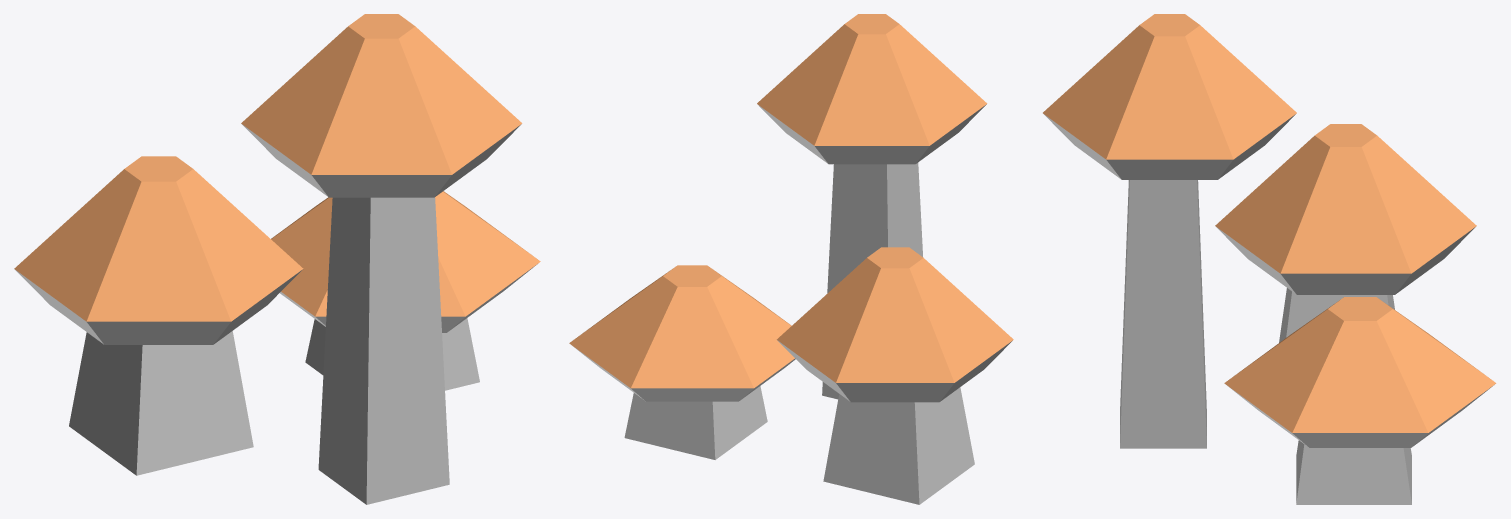
File: mushroom_tanGroup.dae
3 renders of one model, left to right at view 1: azimuth 30°, elevation 25°; view 2: azimuth 150°, elevation 25°; view 3: azimuth 270°, elevation 25°, orthographic. The views are drawn at different scales.
Visible parts, largest first — view 1: mushroom_tanGroup; view 2: mushroom_tanGroup; view 3: mushroom_tanGroup.
Part boxes in pixels (bbox=[...]): mushroom_tanGroup: bbox=[14, 14, 540, 504]; mushroom_tanGroup: bbox=[569, 14, 1013, 504]; mushroom_tanGroup: bbox=[1043, 14, 1496, 504].
Bounding box in the file's own units: 0.2696 × 0.2505 × 0.2542.
